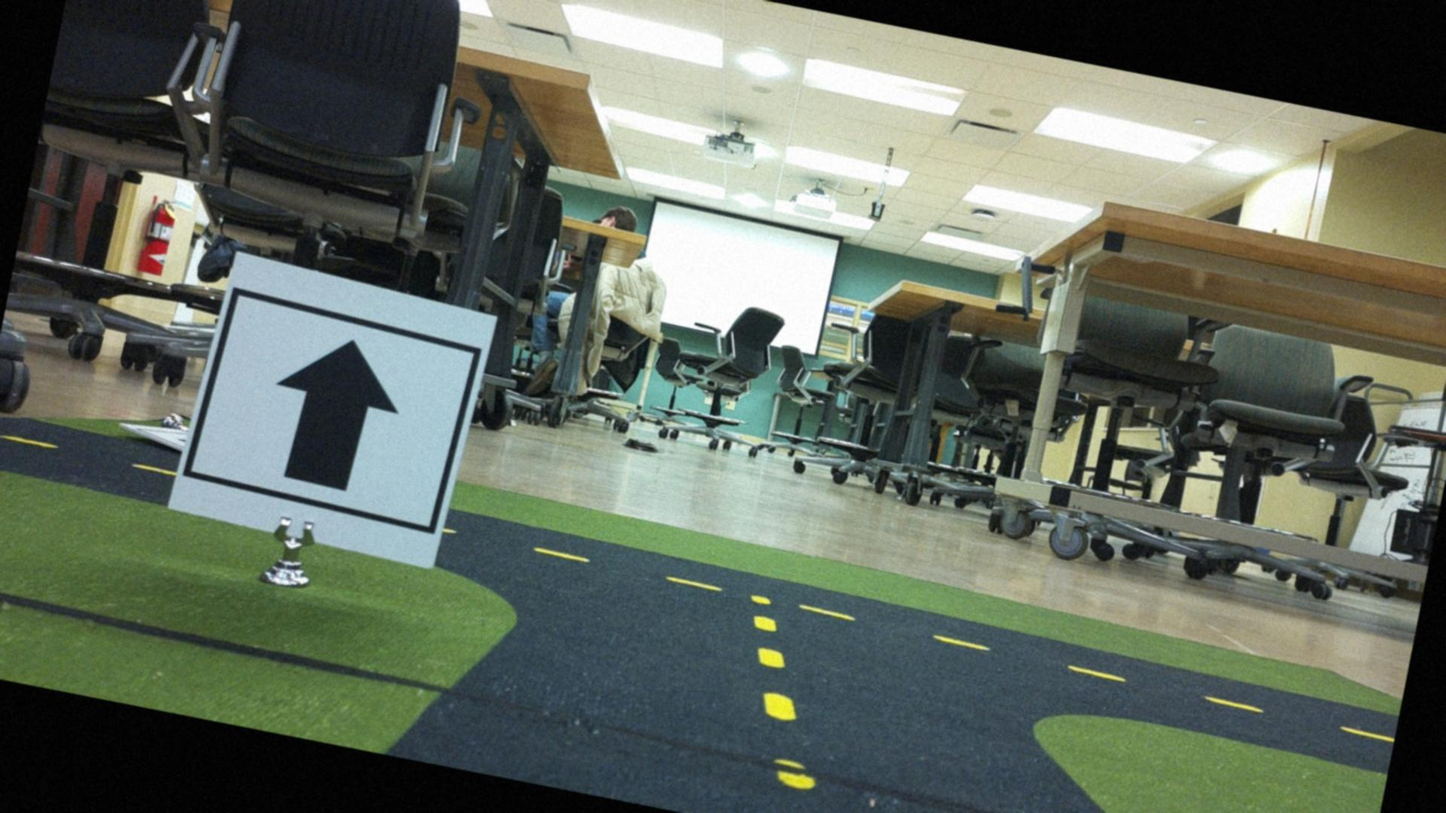gostraight: (191, 268, 483, 549)
yellowline: (933, 629, 1398, 742), (718, 593, 838, 791), (534, 544, 721, 595)
